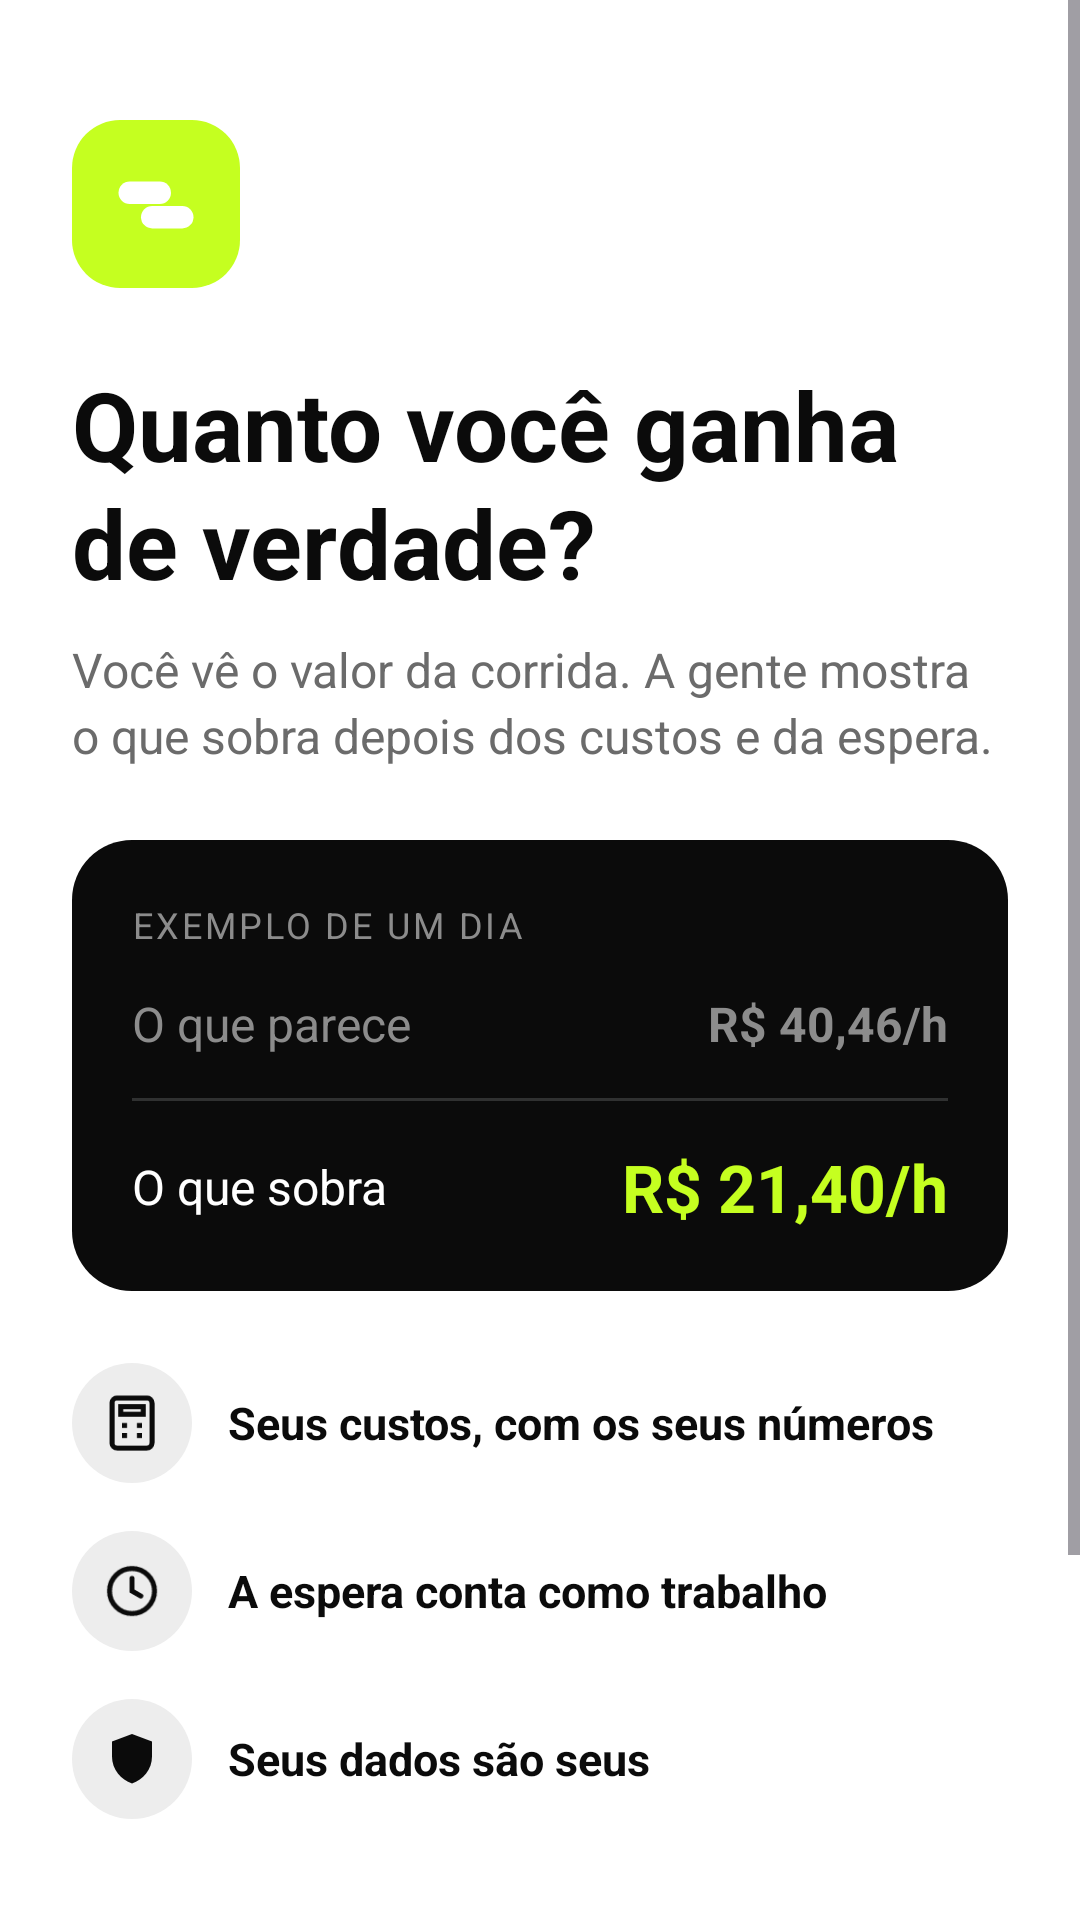

Point at icon controls on the screen. Image size 1080*1920, points as [x,y].
Ícone de custos: [132,1423]
Ícone de dados: [132,1759]
Ícone de espera: [132,1591]
